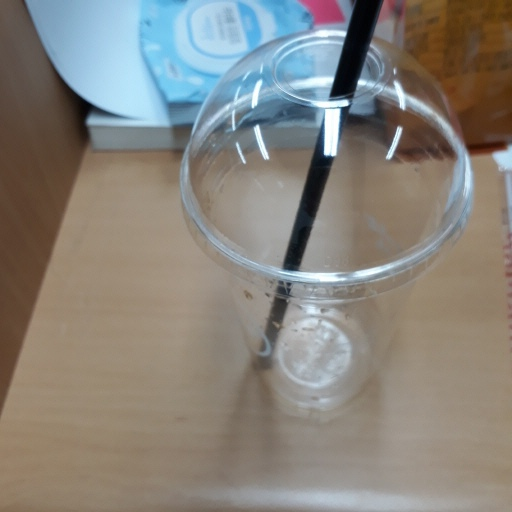Plastic_2: (176, 25, 475, 417)
